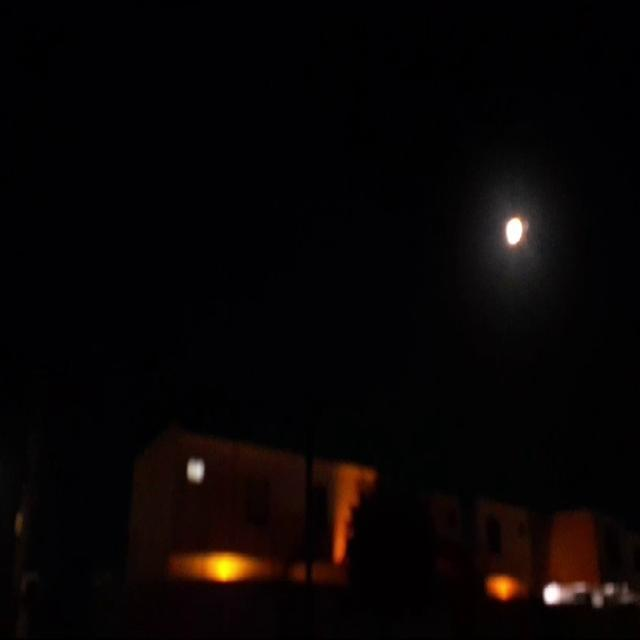moon: (508, 198, 530, 232)
